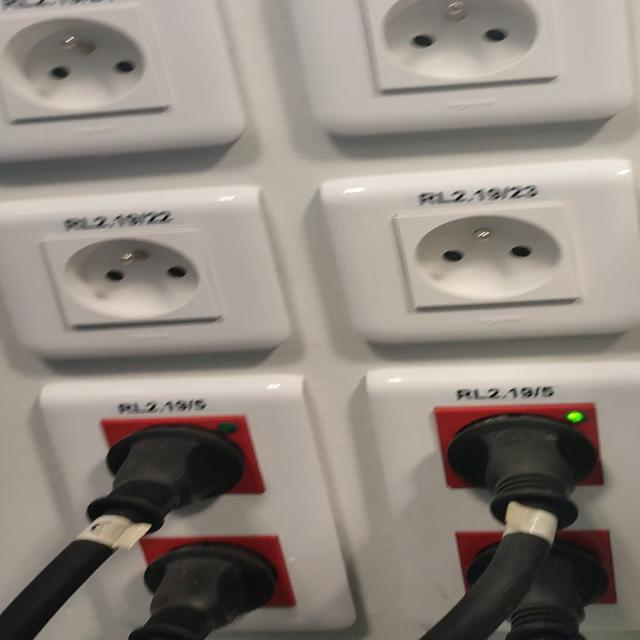house plug: (395, 201, 584, 310), (357, 0, 566, 93), (42, 226, 228, 327)
